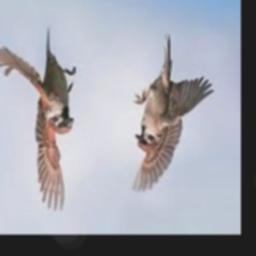Sparrow: (0, 28, 77, 211), (132, 32, 215, 193)
